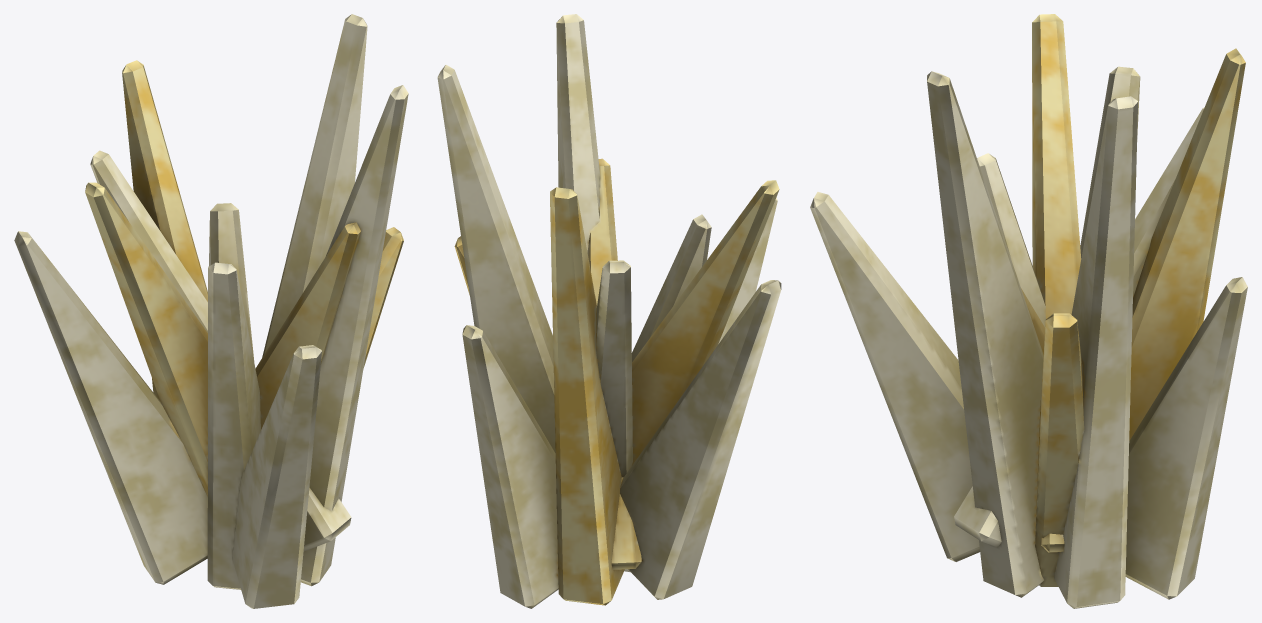
Rendered from Divin_Touffe.fbx.
3 views of the same model, side by side, from view 1: azimuth 30°, elevation 25°; view 2: azimuth 150°, elevation 25°; view 3: azimuth 270°, elevation 25° (orthographic). The views are drawn at different scales.
Visible parts, largest first — view 1: Divin_Touffe; view 2: Divin_Touffe; view 3: Divin_Touffe.
Boxes of the visible parts, bbox=[...] form: Divin_Touffe: bbox=[14, 14, 408, 608]; Divin_Touffe: bbox=[437, 14, 781, 608]; Divin_Touffe: bbox=[810, 14, 1247, 608].
Bounding box in the file's own units: 218 × 294 × 213.
Materials: 1 (1 with a texture image).
